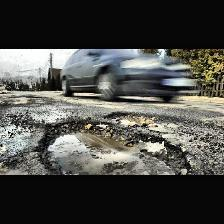pothole: (35, 118, 195, 174), (104, 110, 176, 128)
